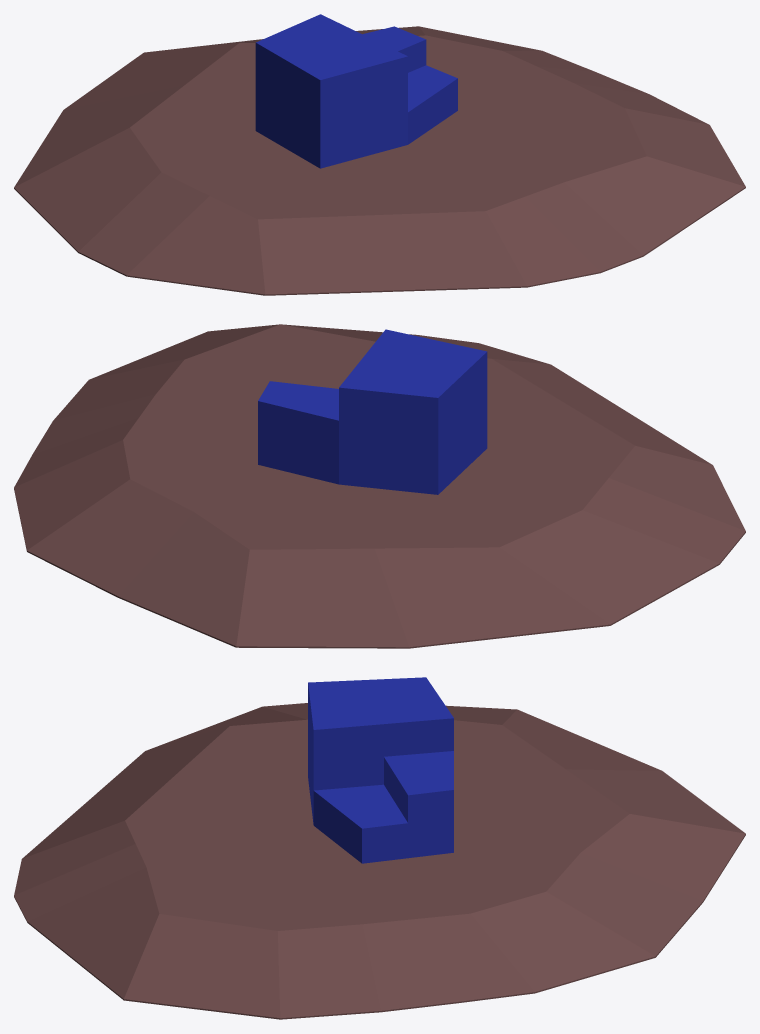
Rendered from island 1.fbx.
The picture shows the model from 3 angles, top to bottom: view 1: azimuth 30°, elevation 25°; view 2: azimuth 150°, elevation 25°; view 3: azimuth 270°, elevation 25°; orthographic projection. The views are drawn at different scales.
Visible parts, largest first — view 1: Cube; view 2: Cube; view 3: Cube.
Part boxes in pixels (x1,y1,x2,y2): Cube: [14, 14, 745, 295]; Cube: [14, 324, 745, 648]; Cube: [14, 677, 745, 1019].
Bounding box in the file's own units: 16335 × 3322 × 15891.
